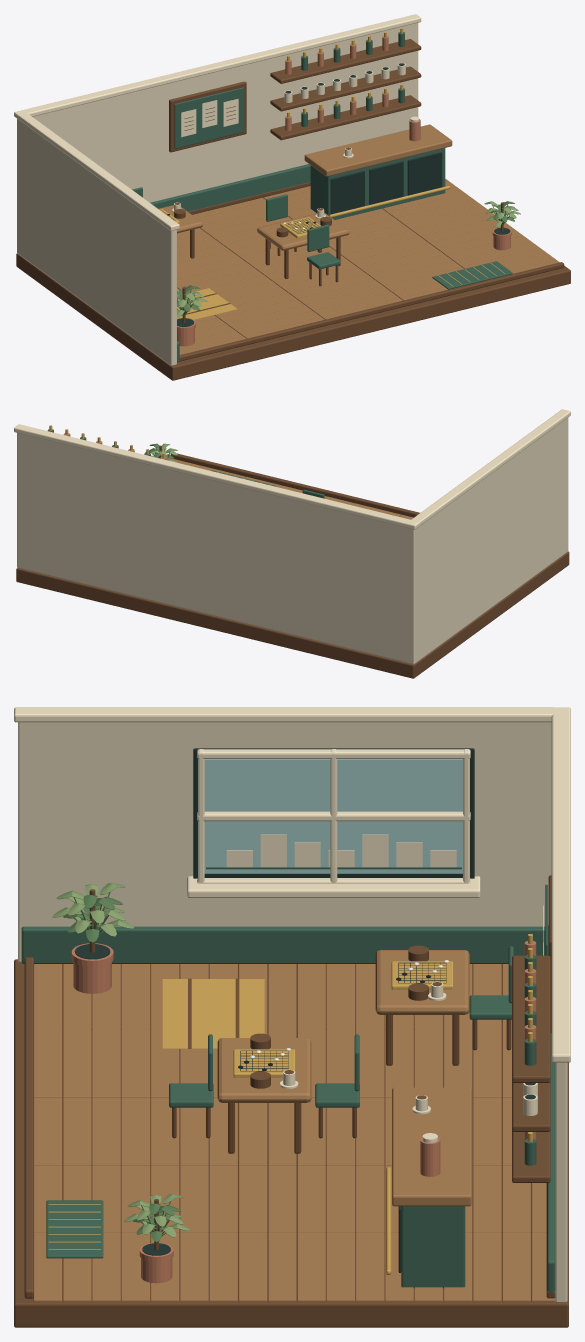
File: room.glb
3 renders of one model, top to bottom at view 1: azimuth 30°, elevation 25°; view 2: azimuth 150°, elevation 25°; view 3: azimuth 270°, elevation 25°, orthographic. The views are drawn at different scales.
Parts seen in each view (by area): view 1: Back plaster, Window wall, Room foundation, Wall cap, Bar top, Floor border.001, Wall skirting, Bar cabinet, Notice board, Left cap, Back shelf.002, Back shelf (+55 smaller); view 2: Back plaster, Window wall, Room foundation, Wall cap, Left cap, Floor border.001; view 3: Window wall, Room foundation, Sea glass, Left skirting, Left cap, Bar top, Wall cap, Sun on floor, Bar cabinet, Window sill, Table top.001, Table top (+90 smaller).
Part boxes in pixels (x1,y1,x2,y2): Back plaster: (17, 23, 418, 254); Window wall: (19, 120, 176, 365); Room foundation: (16, 199, 570, 380); Wall cap: (14, 14, 421, 119); Bar top: (304, 124, 452, 176); Floor border.001: (179, 262, 564, 361); Wall skirting: (150, 164, 310, 211); Bar cabinet: (310, 148, 445, 219); Notice board: (174, 87, 244, 148); Left cap: (16, 110, 179, 230); Back shelf.002: (270, 39, 421, 83); Back shelf: (270, 95, 421, 140); Back plaster: (17, 433, 416, 664); Window wall: (415, 418, 568, 662); Room foundation: (16, 551, 569, 678); Wall cap: (14, 424, 419, 529); Left cap: (408, 409, 570, 525); Floor border.001: (170, 453, 419, 517); Window wall: (18, 722, 551, 962); Room foundation: (14, 959, 568, 1327); Sea glass: (204, 759, 462, 873); Left skirting: (21, 926, 545, 963); Left cap: (14, 707, 566, 722); Bar top: (392, 1087, 471, 1206); Wall cap: (551, 707, 570, 1062); Sun on floor: (162, 979, 264, 1048); Bar cabinet: (401, 1206, 465, 1288); Window sill: (187, 876, 480, 897); Table top.001: (217, 1038, 311, 1102); Table top: (375, 950, 469, 1014).
Size of the model in its own units: 10.7 by 3.93 by 7.22.
